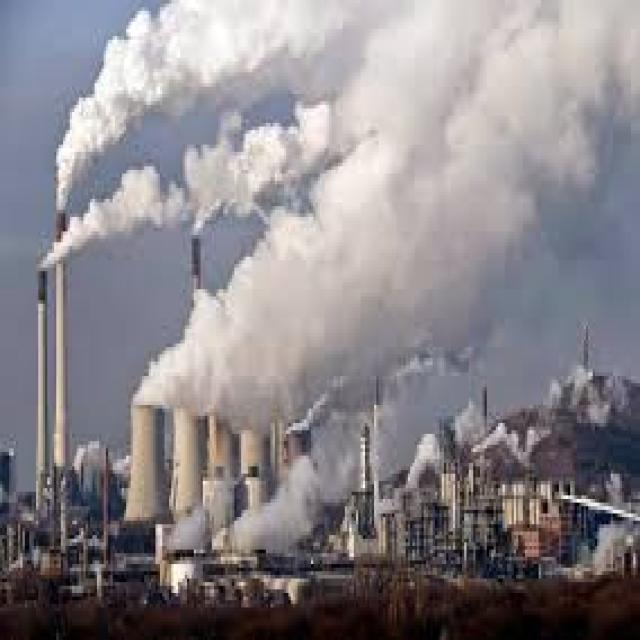Smoke: (28, 0, 640, 545)
